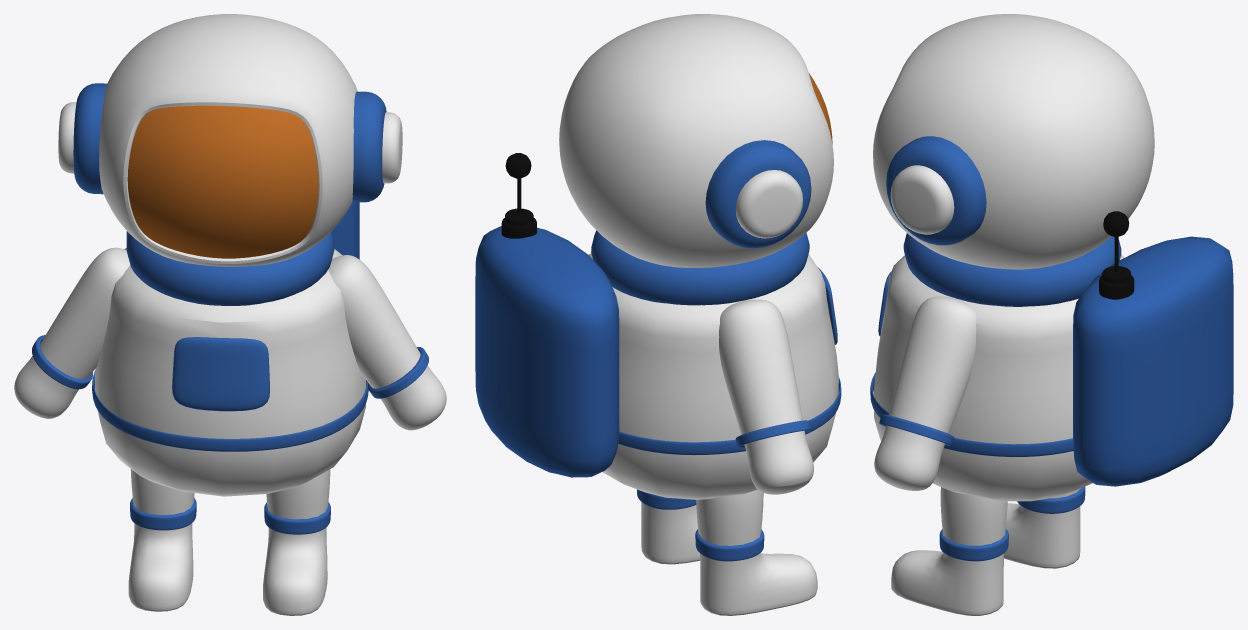
The model's file is spaceman_white_optimized.glb.
3 views of the same model, side by side, from view 1: azimuth 30°, elevation 25°; view 2: azimuth 150°, elevation 25°; view 3: azimuth 270°, elevation 25° (orthographic).
Visible parts, largest first — view 1: Cube.011_Material.001_0, Cube.012_Material.002_0, Cube.020_Material.005_0; view 2: Cube.011_Material.001_0, Cube.020_Material.005_0, Cylinder.002_Material.003_0; view 3: Cube.011_Material.001_0, Cube.020_Material.005_0, Cylinder.002_Material.003_0.
Boxes of the visible parts, x1,y1,x2,y2 form: Cube.011_Material.001_0: (14, 14, 446, 615); Cube.012_Material.002_0: (127, 105, 318, 258); Cube.020_Material.005_0: (126, 202, 359, 259); Cube.011_Material.001_0: (559, 14, 841, 615); Cube.020_Material.005_0: (475, 226, 619, 477); Cylinder.002_Material.003_0: (501, 153, 536, 238); Cube.011_Material.001_0: (870, 14, 1154, 615); Cube.020_Material.005_0: (1073, 236, 1233, 486); Cylinder.002_Material.003_0: (1099, 211, 1134, 299).
Bounding box in the file's own units: 2.8 × 4.41 × 2.63.
Materials: 4 (4 with a texture image).
